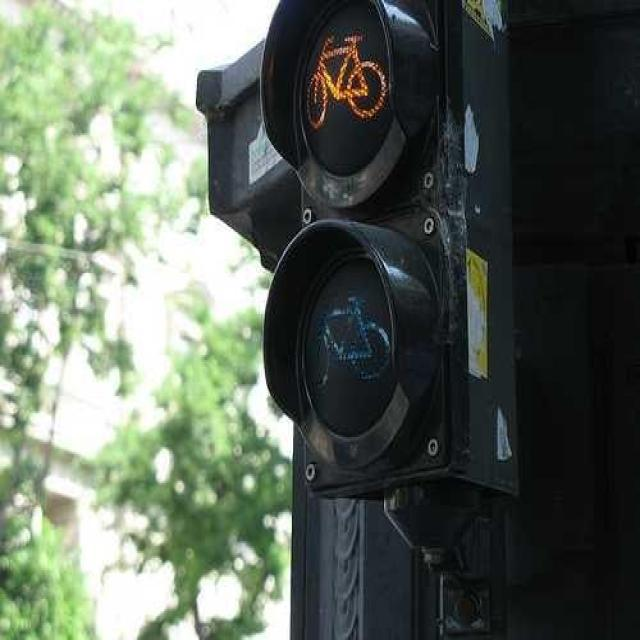Traffic Light -Red-: (274, 5, 446, 490)
